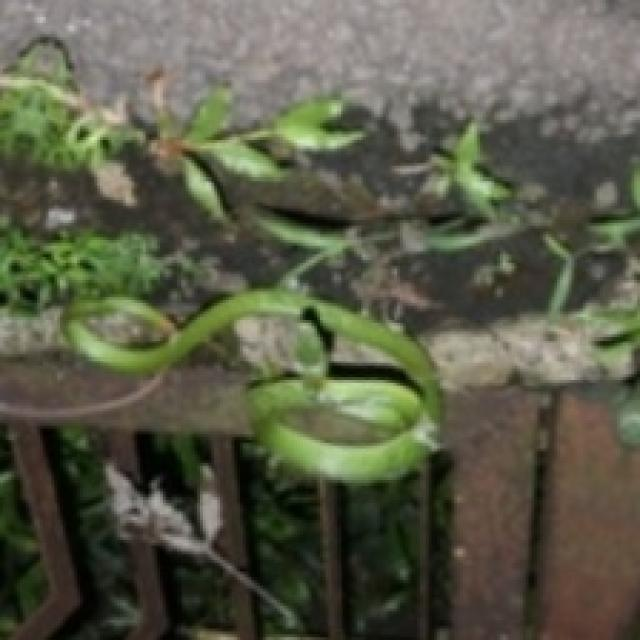red-tailed green ratsnake: (63, 286, 440, 480), (63, 289, 440, 480)
